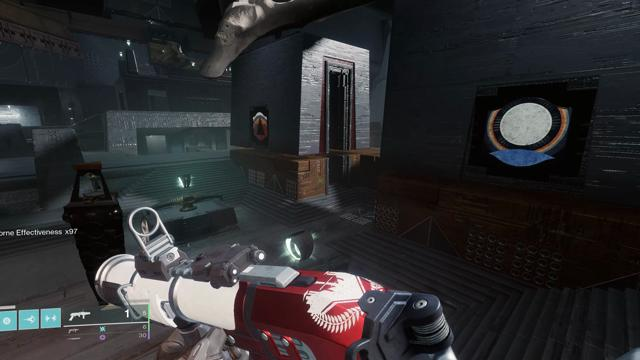stop: (253, 112, 268, 140)
traveler: (483, 97, 572, 167)
